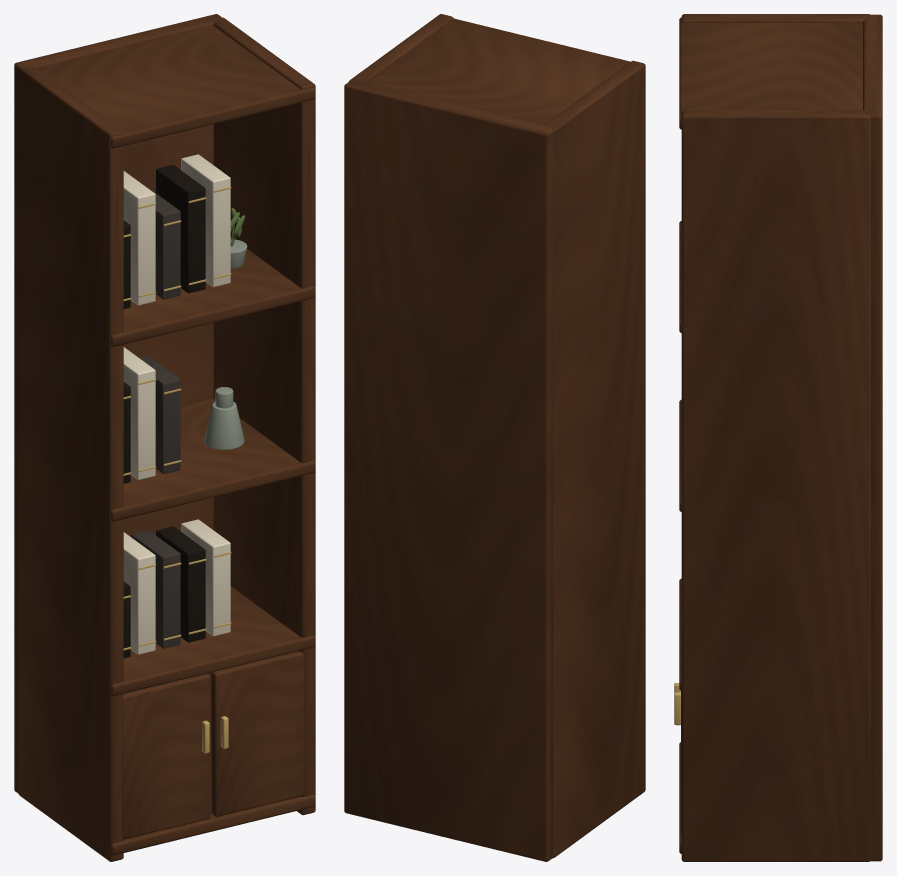
The model's file is bookcase-v1.glb.
3 views of the same model, side by side, from view 1: azimuth 30°, elevation 25°; view 2: azimuth 150°, elevation 25°; view 3: azimuth 270°, elevation 25° (orthographic). The views are drawn at different scales.
Parts seen in each view (by area): view 1: Back walnut panel; view 2: Back walnut panel; view 3: Back walnut panel.
Boxes of the visible parts, <box> form: Back walnut panel: <box>14,14,315,861</box>; Back walnut panel: <box>344,14,645,861</box>; Back walnut panel: <box>674,14,882,861</box>.
Size of the model in its own units: 0.99 by 3.34 by 0.845.
7 materials, 2 textured.
